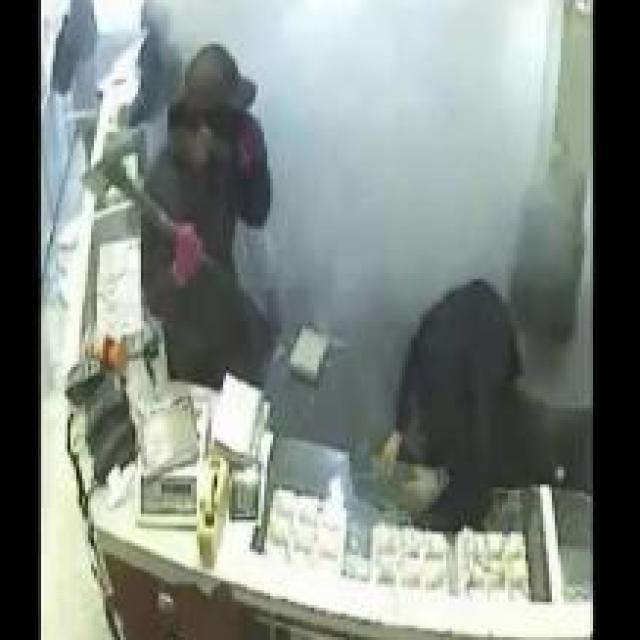fire: (229, 0, 576, 305)
